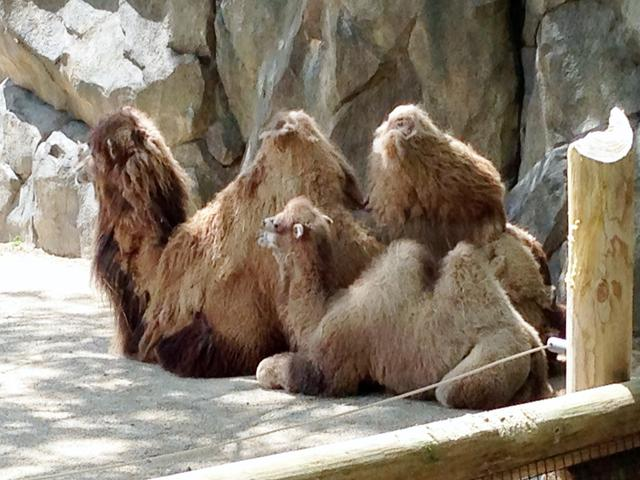camel: (57, 98, 551, 362), (238, 186, 576, 438)
